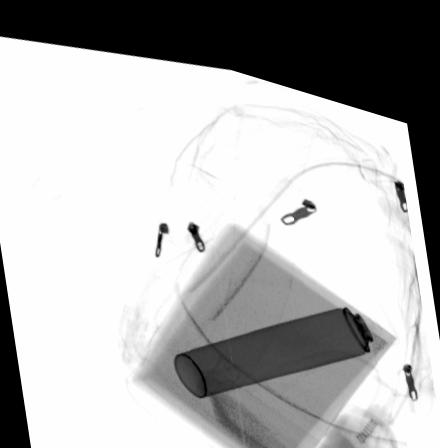Sprayer: (172, 275, 403, 386)
